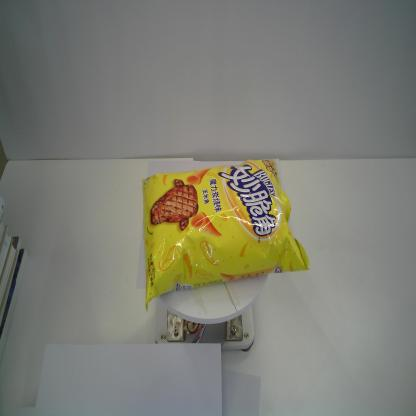Puffed Food: (140, 158, 311, 313)
